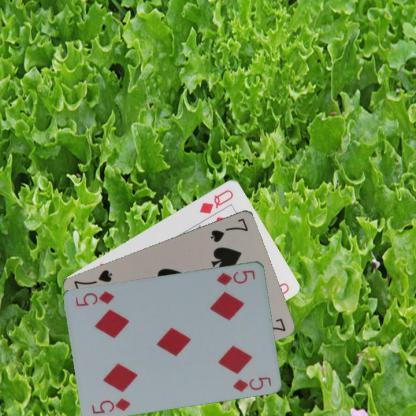5d: (214, 267, 257, 287), (89, 395, 132, 415)
7s: (208, 215, 250, 243)
Qd: (197, 186, 235, 215)
